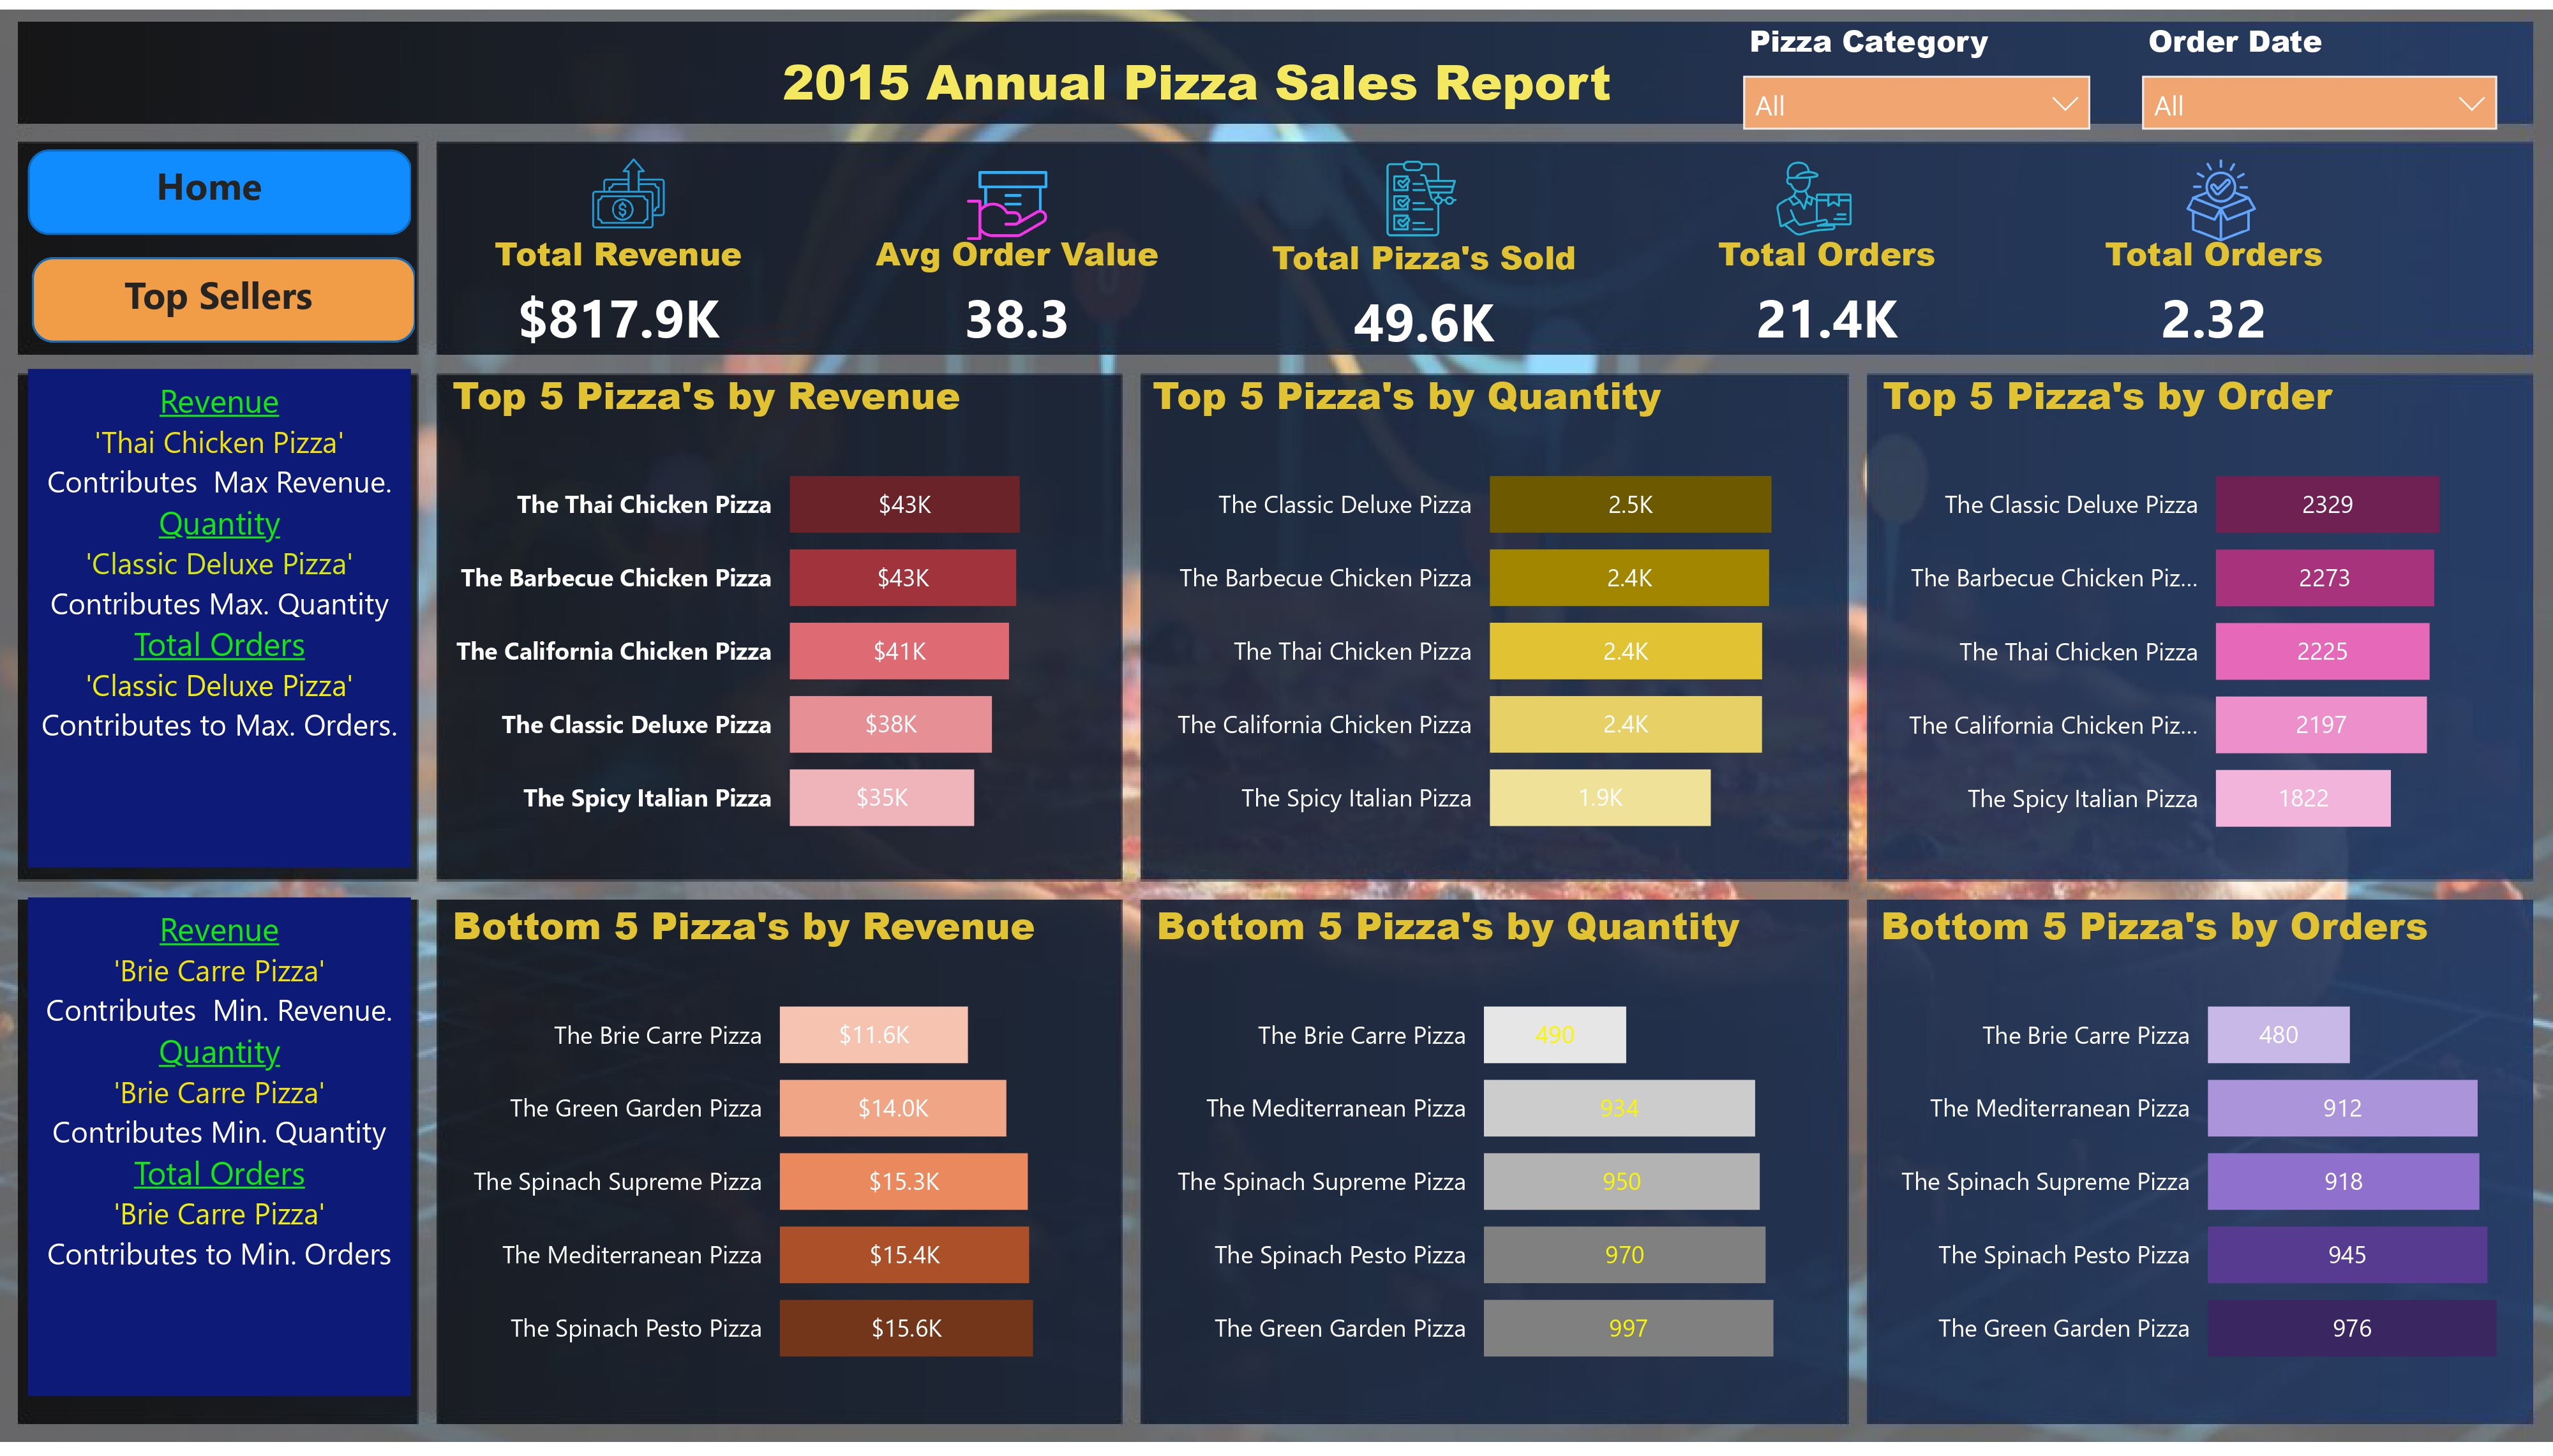

Layout of this report page (visuals, bound fields, positions):
{"tool":"powerbi","page":{"name":"Top  Sellers","canvas":[1280,720],"ordinal":1},"visuals":[{"type":"shape","box":[222,70,188,106],"z":0},{"type":"card","title":"Total Revenue","fields":{"Values":["Sum(pizza_sales.total_price)"]},"box":[222,110,176,66],"z":1000},{"type":"shape","box":[410,70,188,106],"z":2000},{"type":"card","title":"Avg Order Value","fields":{"Values":["pizza_sales.avg_order"]},"box":[422,110,176,66],"z":3000},{"type":"card","title":"Total Pizza''s Sold","fields":{"Values":["Sum(pizza_sales.quantity)"]},"box":[626,112,176,66],"z":4000},{"type":"card","title":"Total Orders","fields":{"Values":["Count(pizza_sales.order_id)"]},"box":[828,110,176,66],"z":5000},{"type":"card","title":"Total Orders","fields":{"Values":["pizza_sales.avg_pizza_per_order"]},"box":[1022,110,176,66],"z":6000},{"type":"textbox","box":[372,14,456,96],"z":7000},{"type":"slicer","fields":{"Values":["pizza_sales.pizza_category"]},"box":[864,0,194,62],"z":8000},{"type":"slicer","fields":{"Values":["pizza_sales.order_date"]},"box":[1064,0,198,62],"z":9000},{"type":"shape","title":"H","box":[13.6,70,192.5,42.8],"z":10000},{"type":"shape","title":"H","box":[15.6,124.4,192.5,42.8],"z":11000},{"type":"textbox","box":[65.7,69.8,78,43.1],"z":12000},{"type":"textbox","box":[49.3,125.2,121.1,43.1],"z":13000},{"type":"barChart","title":"Top 5 Pizza''s by Revenue","fields":{"Category":["pizza_sales.pizza_name"],"Y":["Sum(pizza_sales.total_price)"]},"box":[221.7,178.6,342.8,250.4],"z":14000},{"type":"barChart","title":"Top 5 Pizza''s by Quantity","fields":{"Category":["pizza_sales.pizza_name"],"Y":["Sum(pizza_sales.quantity)"]},"box":[572.7,178.6,342.8,250.4],"z":15000},{"type":"barChart","title":"Top 5 Pizza''s by Order","fields":{"Category":["pizza_sales.pizza_name"],"Y":["Count(pizza_sales.order_id)"]},"box":[939,178.9,322.7,250.8],"z":16000},{"type":"barChart","title":"Bottom 5 Pizza''s by Revenue","fields":{"Y":["Sum(pizza_sales.total_price)"],"Category":["pizza_sales.pizza_name"]},"box":[221.7,445.4,342.8,250.4],"z":17000},{"type":"barChart","title":"Bottom 5 Pizza''s by Quantity","fields":{"Category":["pizza_sales.pizza_name"],"Y":["Sum(pizza_sales.quantity)"]},"box":[574.7,445.4,342.8,250.4],"z":18000},{"type":"barChart","title":"Bottom 5 Pizza''s by Orders","fields":{"Category":["pizza_sales.pizza_name"],"Y":["Count(pizza_sales.order_id)"]},"box":[938,445.4,342.8,250.4],"z":19000},{"type":"textbox","box":[14,180,192,250],"z":20000},{"type":"textbox","box":[14,445,192,250],"z":21000},{"type":"image","box":[227.5,66.1,176.9,52.5],"z":22000},{"type":"image","box":[390.8,70,227.5,56.4],"z":23000},{"type":"image","box":[626,70,173,48.6],"z":24000},{"type":"image","box":[841.8,70,134.1,48.6],"z":25000},{"type":"image","box":[1022.6,70,180.8,50.5],"z":26000}]}

Visuals, with their boxes in screenshot pixels (x1, y1, x2, y2), scaled from the page's 1280x720 canvas onto the 2553x1456 screenshot:
shape: (left=443, top=142, right=818, bottom=356)
"Total Revenue" card: (left=443, top=223, right=794, bottom=356)
shape: (left=818, top=142, right=1193, bottom=356)
"Avg Order Value" card: (left=842, top=223, right=1193, bottom=356)
"Total Pizza''s Sold" card: (left=1248, top=227, right=1599, bottom=360)
"Total Orders" card: (left=1652, top=223, right=2003, bottom=356)
"Total Orders" card: (left=2039, top=223, right=2390, bottom=356)
textbox: (left=742, top=28, right=1652, bottom=223)
slicer - pizza_sales.pizza_category: (left=1723, top=0, right=2110, bottom=126)
slicer - pizza_sales.order_date: (left=2122, top=0, right=2517, bottom=126)
"H" shape: (left=27, top=142, right=411, bottom=228)
"H" shape: (left=31, top=251, right=415, bottom=338)
textbox: (left=131, top=141, right=287, bottom=228)
textbox: (left=98, top=253, right=340, bottom=340)
"Top 5 Pizza''s by Revenue" barChart: (left=442, top=361, right=1126, bottom=868)
"Top 5 Pizza''s by Quantity" barChart: (left=1142, top=361, right=1826, bottom=868)
"Top 5 Pizza''s by Order" barChart: (left=1873, top=362, right=2517, bottom=869)
"Bottom 5 Pizza''s by Revenue" barChart: (left=442, top=901, right=1126, bottom=1407)
"Bottom 5 Pizza''s by Quantity" barChart: (left=1146, top=901, right=1830, bottom=1407)
"Bottom 5 Pizza''s by Orders" barChart: (left=1871, top=901, right=2552, bottom=1407)
textbox: (left=28, top=364, right=411, bottom=870)
textbox: (left=28, top=900, right=411, bottom=1406)
image: (left=454, top=134, right=807, bottom=240)
image: (left=779, top=142, right=1233, bottom=256)
image: (left=1248, top=142, right=1594, bottom=240)
image: (left=1679, top=142, right=1947, bottom=240)
image: (left=2040, top=142, right=2400, bottom=244)
